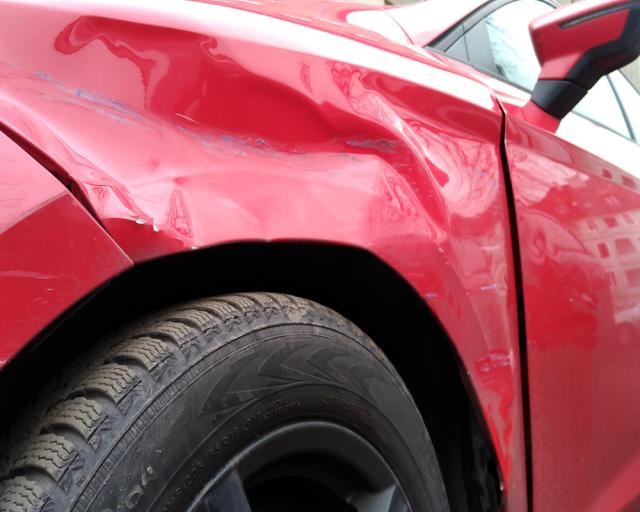dent: (15, 13, 452, 253)
